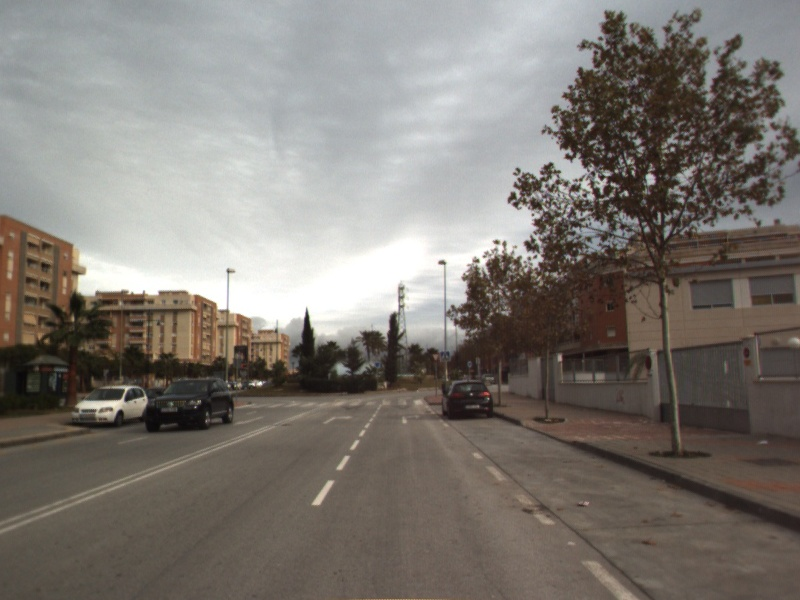RIGHT: (321, 413, 355, 426), (400, 412, 424, 426)
